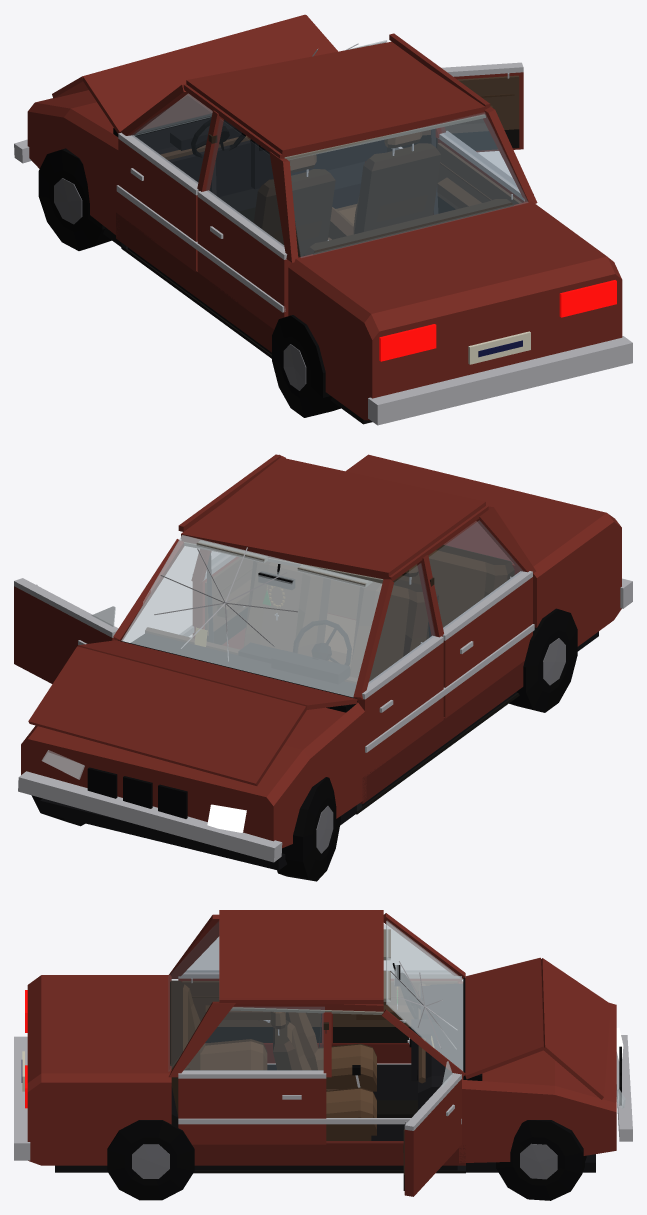
Rendered from car_crashed.glb.
3 views of the same model, one above another, from view 1: azimuth 30°, elevation 25°; view 2: azimuth 150°, elevation 25°; view 3: azimuth 270°, elevation 25° (orthographic). The views are drawn at different scales.
Visible parts, largest first — view 1: car_crashed_body, door_right; view 2: car_crashed_body, door_right; view 3: car_crashed_body, door_right.
Boxes of the visible parts, box(x1,y1,x2,y2) form: car_crashed_body: box(14, 14, 632, 425); door_right: box(387, 62, 523, 152); car_crashed_body: box(18, 454, 632, 881); door_right: box(14, 578, 118, 683); car_crashed_body: box(14, 910, 632, 1200); door_right: box(403, 1061, 461, 1196).
Bounding box in the file's own units: 2.77 × 1.56 × 4.52.
